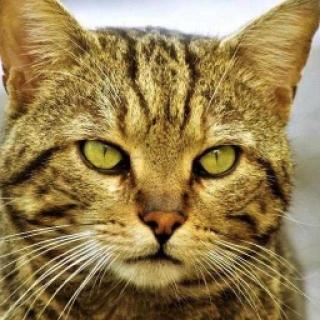cat: (14, 10, 310, 292)
nose: (134, 196, 189, 246)
